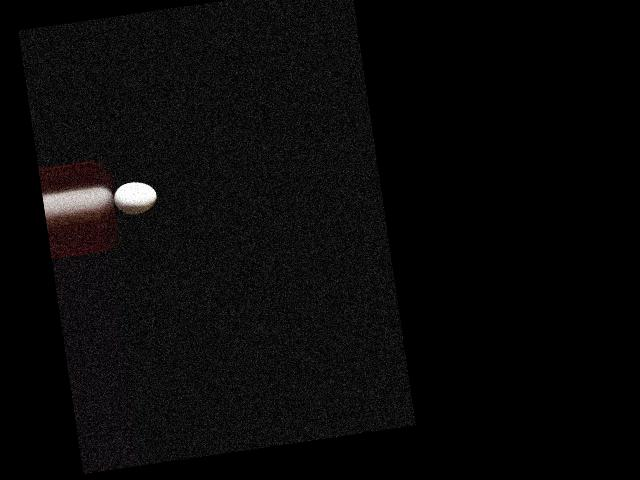egg: (111, 179, 158, 216)
